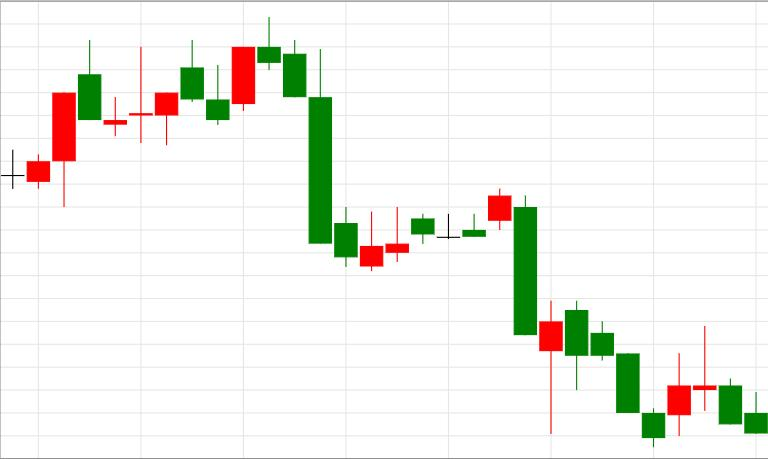inverse_hammer_rise: (258, 17, 383, 271)
